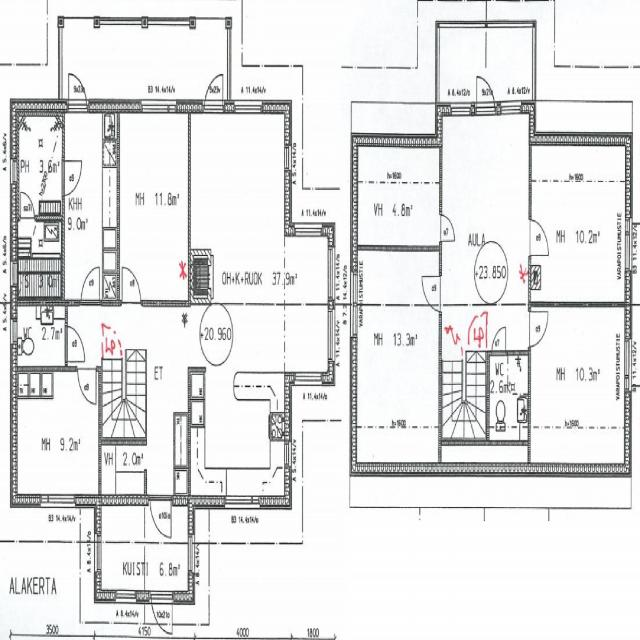door: (151, 589, 172, 640), (150, 495, 171, 543), (68, 64, 87, 113), (204, 64, 222, 113), (80, 263, 100, 305), (476, 68, 494, 114), (62, 160, 84, 196), (64, 324, 86, 360), (528, 220, 550, 256), (527, 310, 549, 346), (420, 276, 442, 311), (77, 365, 96, 405), (122, 264, 140, 306), (20, 188, 34, 221), (491, 323, 505, 355), (439, 214, 456, 240)
